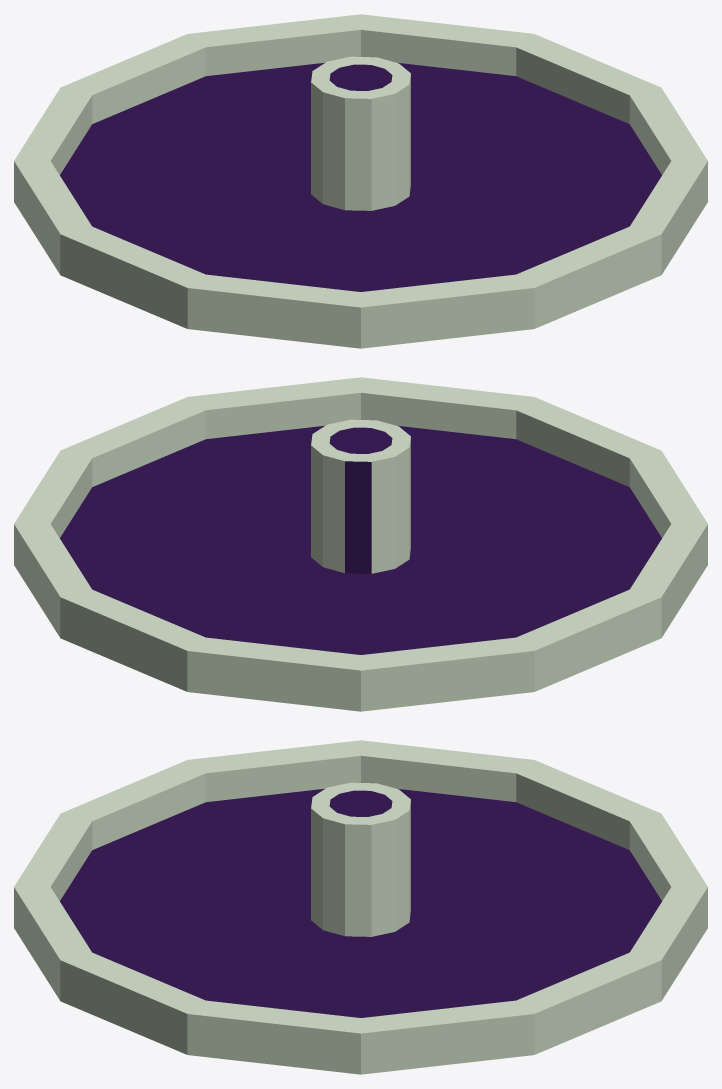
The model's file is fountain.glb.
The picture shows the model from 3 angles, top to bottom: view 1: azimuth 30°, elevation 25°; view 2: azimuth 150°, elevation 25°; view 3: azimuth 270°, elevation 25°; orthographic projection.
Visible parts, largest first — view 1: fountain; view 2: fountain; view 3: fountain.
Part boxes in pixels (<box>): fountain: <box>14,14,707,348</box>; fountain: <box>14,377,707,711</box>; fountain: <box>14,740,707,1074</box>.
Bounding box in the file's own units: 2 × 0.395 × 2.
Materials: 1 (1 with a texture image).
